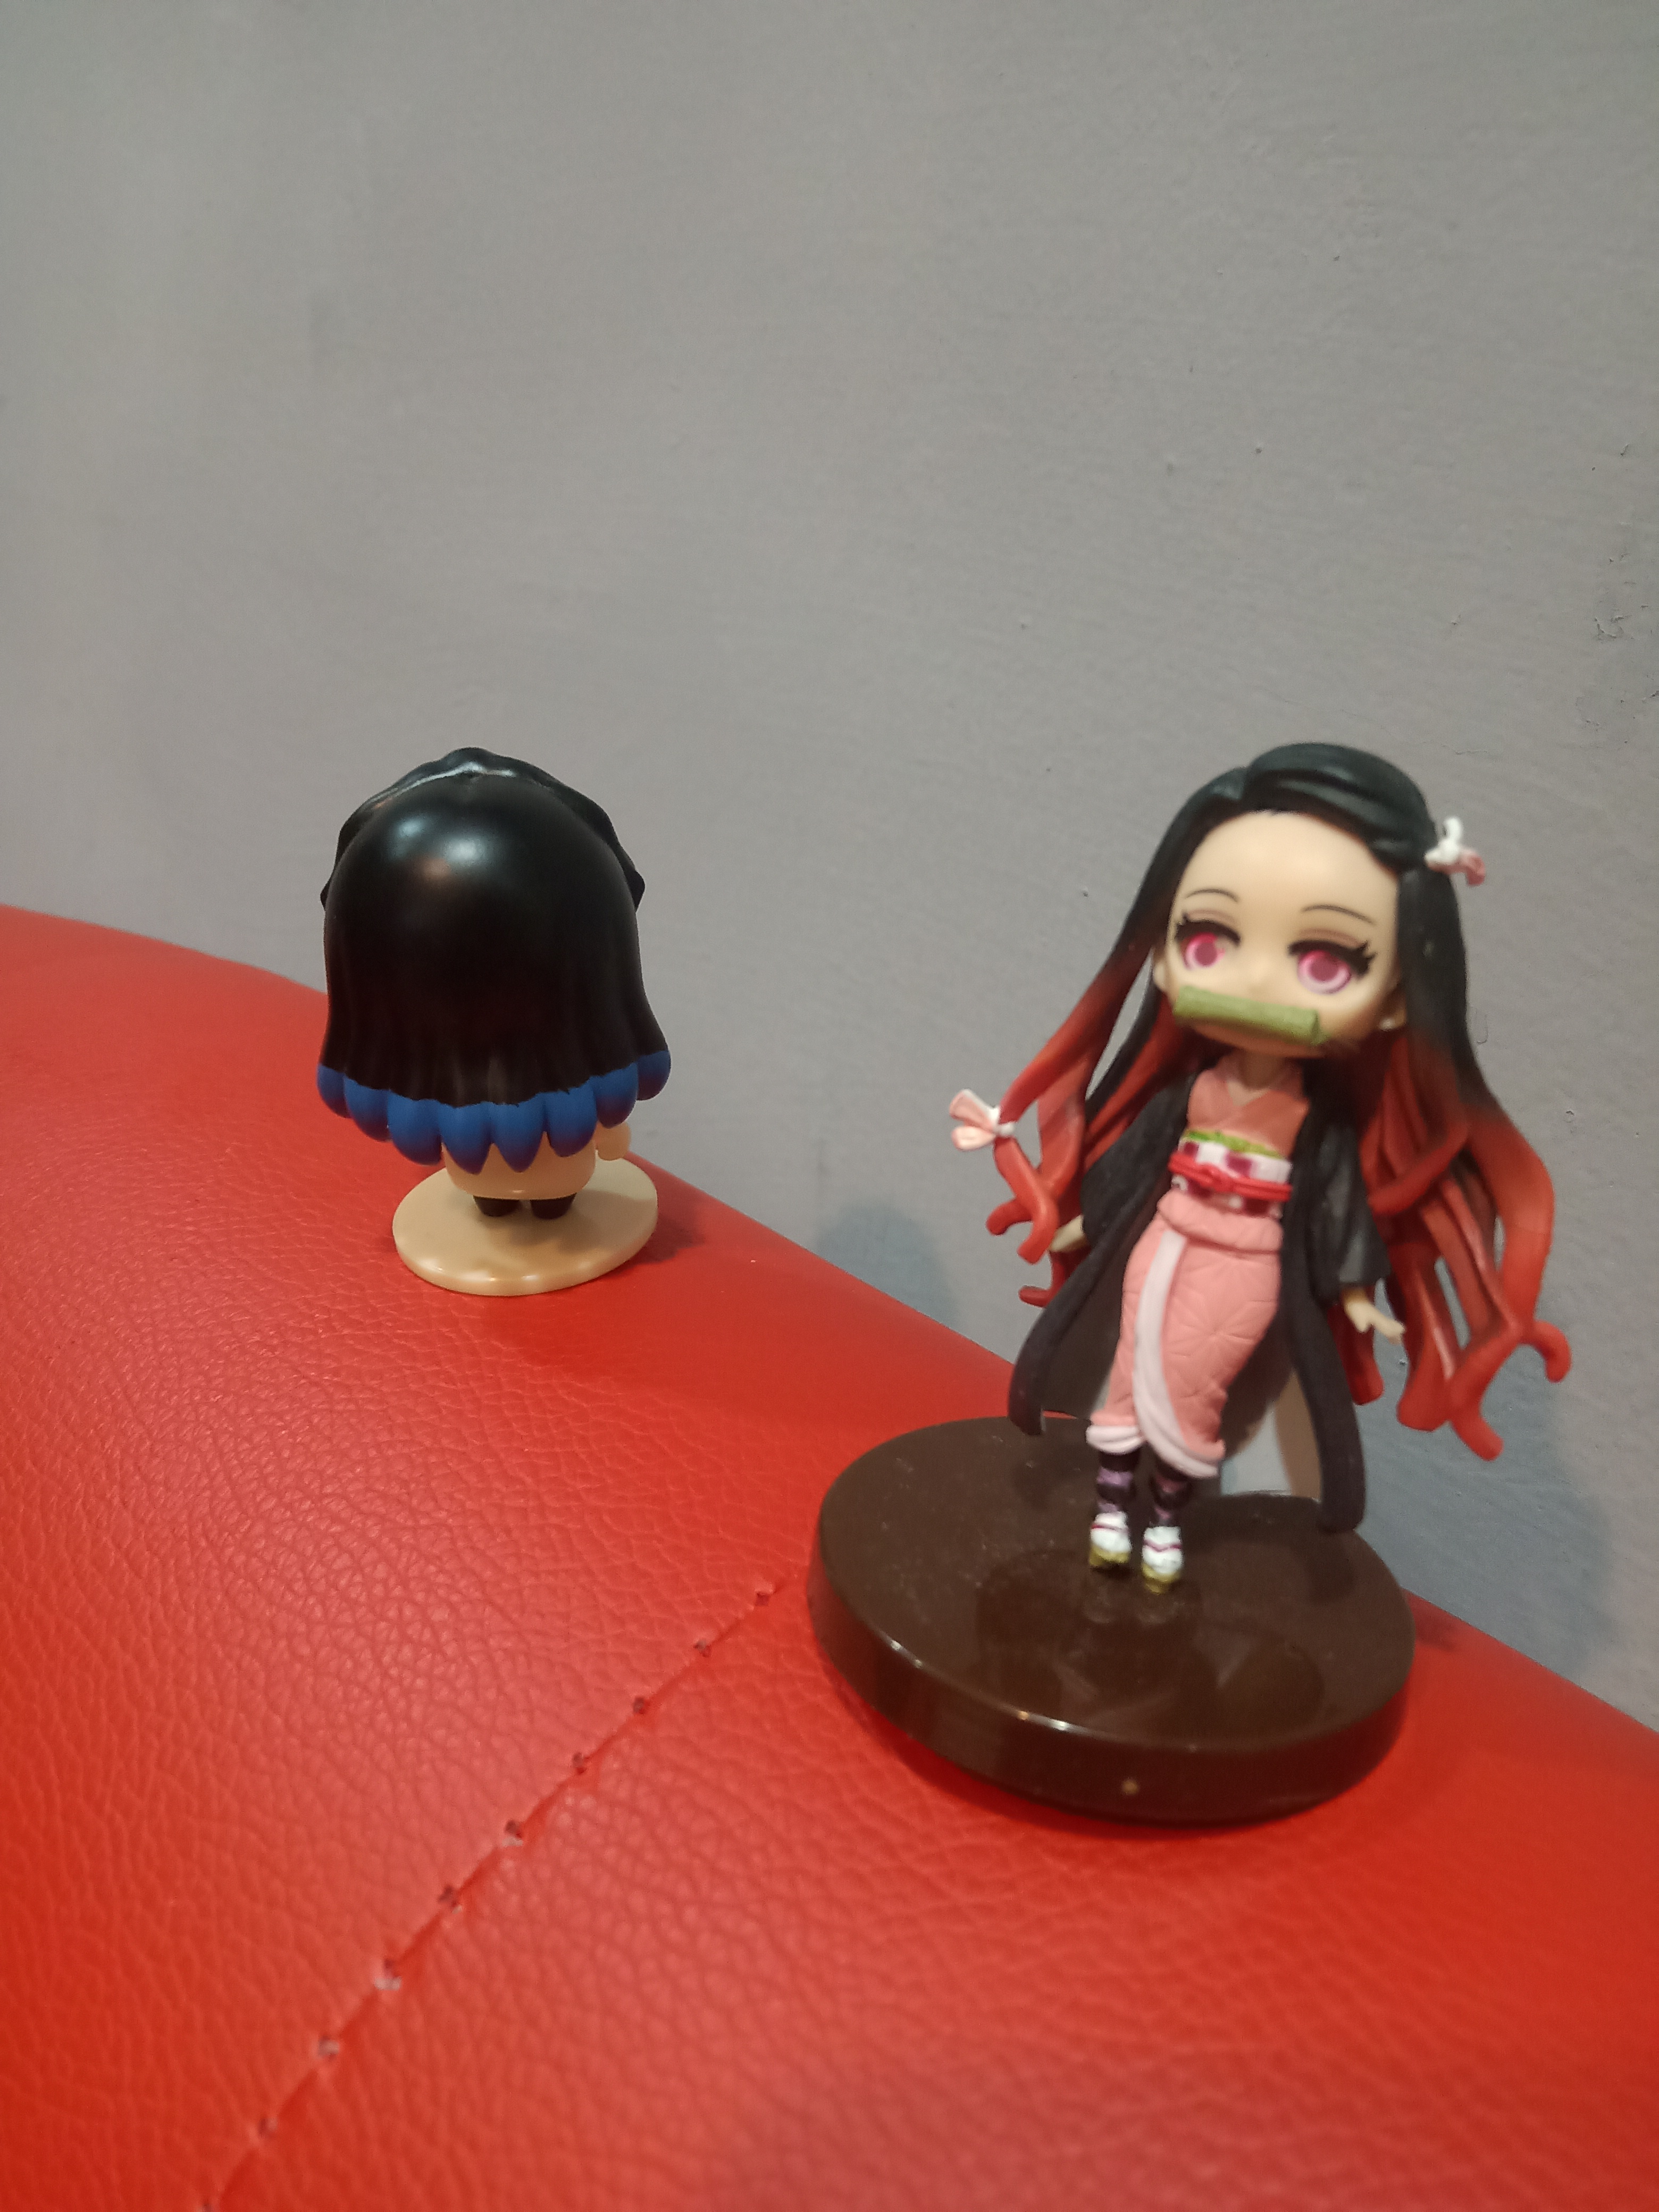Inosuke: (279, 730, 701, 1320)
Nezuko: (798, 730, 1607, 1836)
